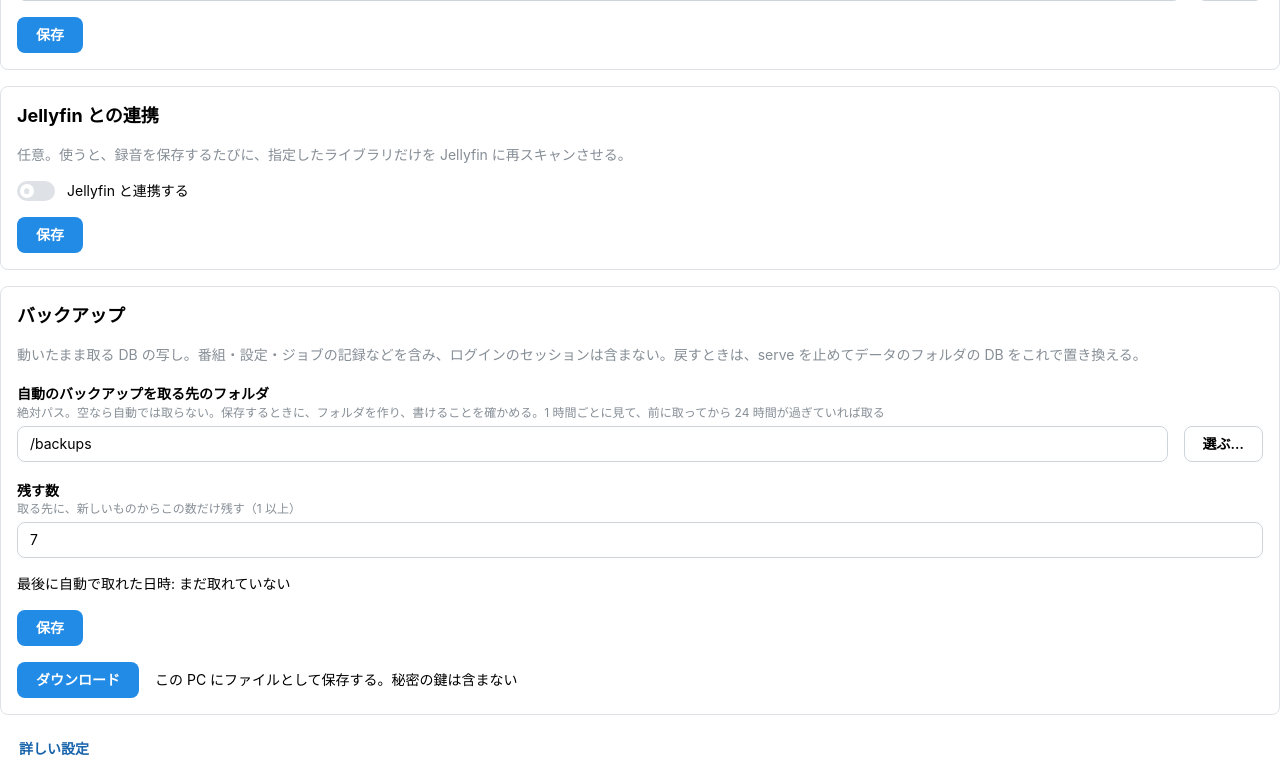
SettingsPage のバックアップ › 「ダウンロード」を押すと、GET /api/backup の写しを答えの名前でブラウザに保存させ、トーストで知らせる
(page scrolled)
Click the button "ダウンロード" at (78, 680), box [17,662,139,698]
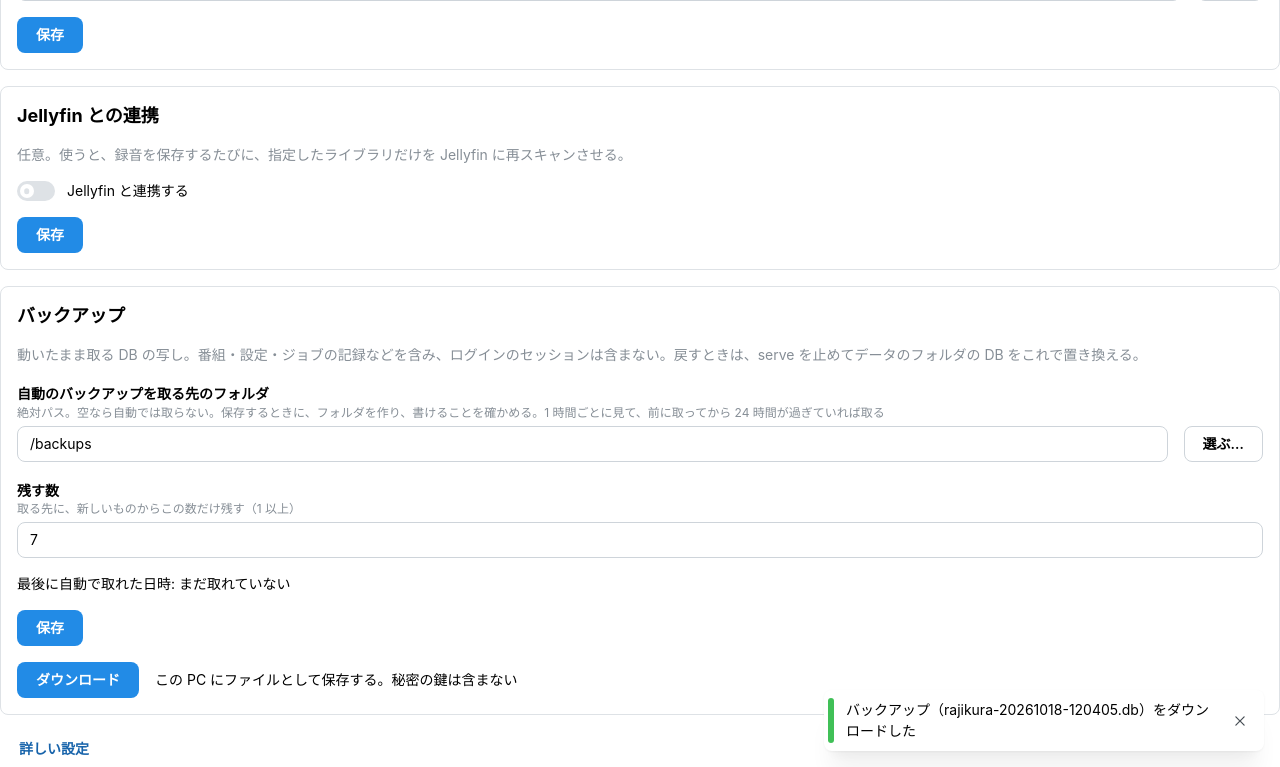
Expected: the text "バックアップ（rajikura-20261018-120405.db）をダウンロードした" is shown, [846,700,1216,741]
